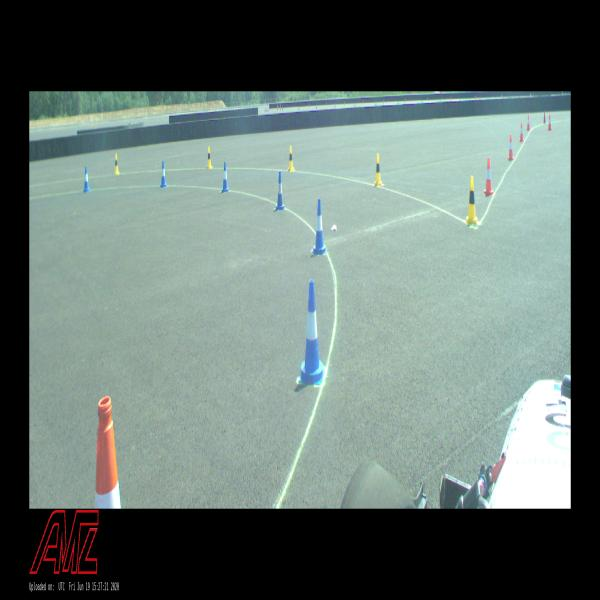blue_cone: (298, 280, 325, 385), (312, 198, 326, 255), (274, 172, 284, 210), (221, 162, 229, 192), (160, 160, 167, 188), (83, 166, 90, 192)
large_orange_cone: (95, 396, 121, 508)
orange_cone: (484, 158, 494, 195), (508, 134, 514, 160), (519, 122, 524, 141), (548, 114, 552, 131), (527, 115, 530, 130)
unknown_cone: (543, 111, 546, 123)
yellow_cone: (466, 176, 478, 225), (374, 153, 382, 187), (288, 146, 295, 172), (114, 154, 120, 174), (207, 146, 212, 169)
